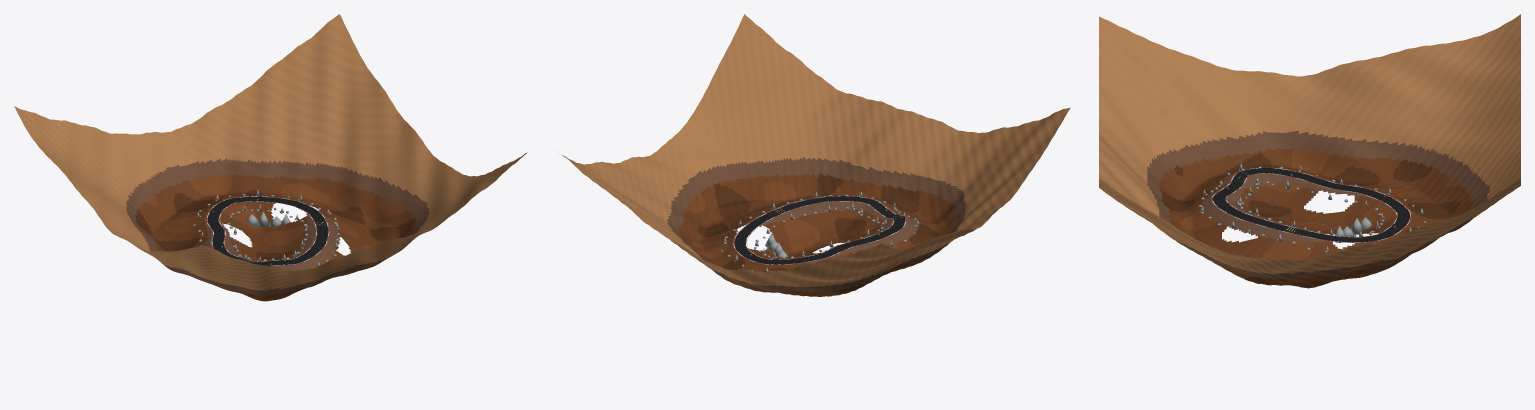
File: canyon_springs.glb
3 renders of one model, left to right at view 1: azimuth 30°, elevation 25°; view 2: azimuth 150°, elevation 25°; view 3: azimuth 270°, elevation 25°, orthographic. The views are drawn at different scales.
Parts seen in each view (by area): view 1: canyon_springs - Blender Mountain Course - Combined Blender ; view 2: canyon_springs - Blender Mountain Course - Combined Blender ; view 3: canyon_springs - Blender Mountain Course - Combined Blender .
Boxes of the visible parts, <box> form: canyon_springs - Blender Mountain Course - Combined Blender : <box>14,14,527,301</box>; canyon_springs - Blender Mountain Course - Combined Blender : <box>561,14,1070,296</box>; canyon_springs - Blender Mountain Course - Combined Blender : <box>1099,14,1520,288</box>.
Bounding box in the file's own units: 846 × 679 × 846.
23 materials, 6 textured.
